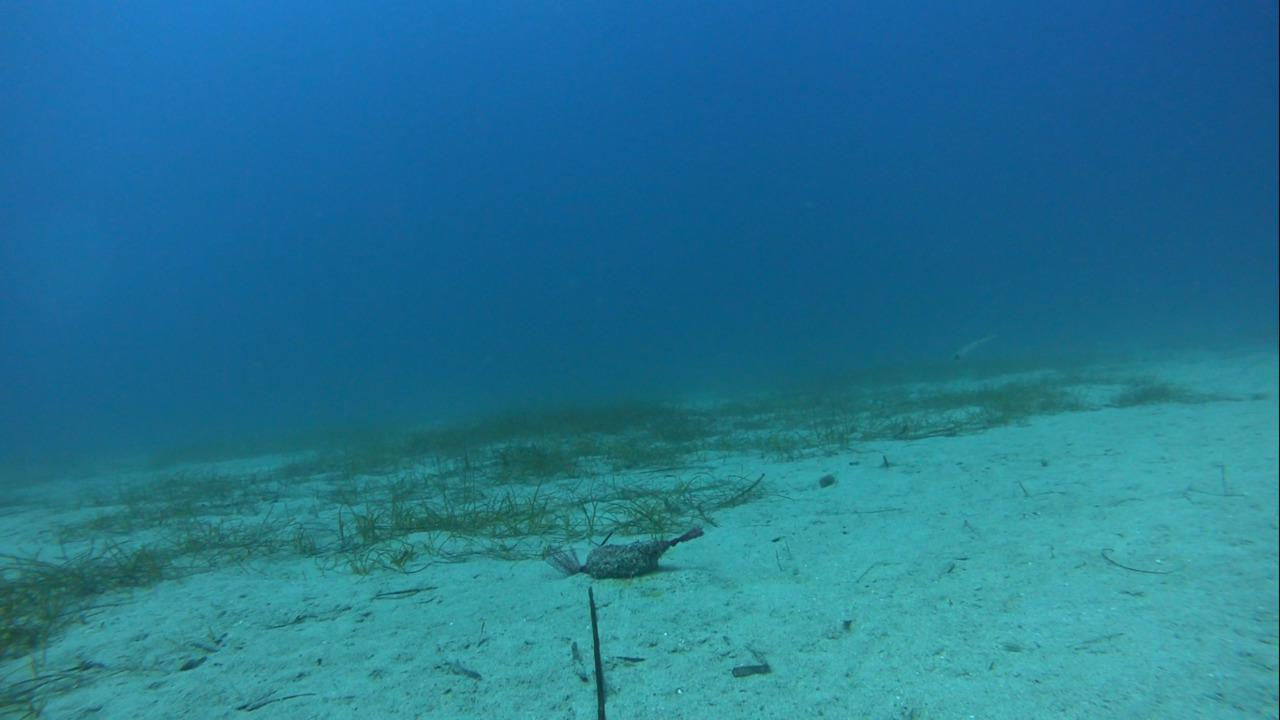dactylopterus: (935, 324, 1018, 368)
